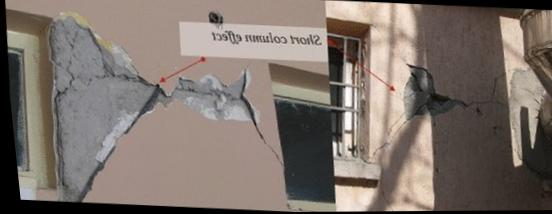crack: (74, 22, 154, 88), (52, 31, 84, 186), (367, 104, 426, 164), (457, 69, 512, 109), (249, 120, 280, 169), (174, 83, 241, 102), (506, 146, 539, 180), (404, 64, 434, 95), (56, 125, 61, 188), (409, 73, 423, 93), (378, 191, 389, 212), (372, 26, 385, 42), (402, 93, 413, 101), (472, 108, 481, 116), (86, 77, 91, 87), (76, 94, 82, 102)
damage: (47, 14, 256, 202), (402, 64, 465, 123), (425, 94, 448, 112)
